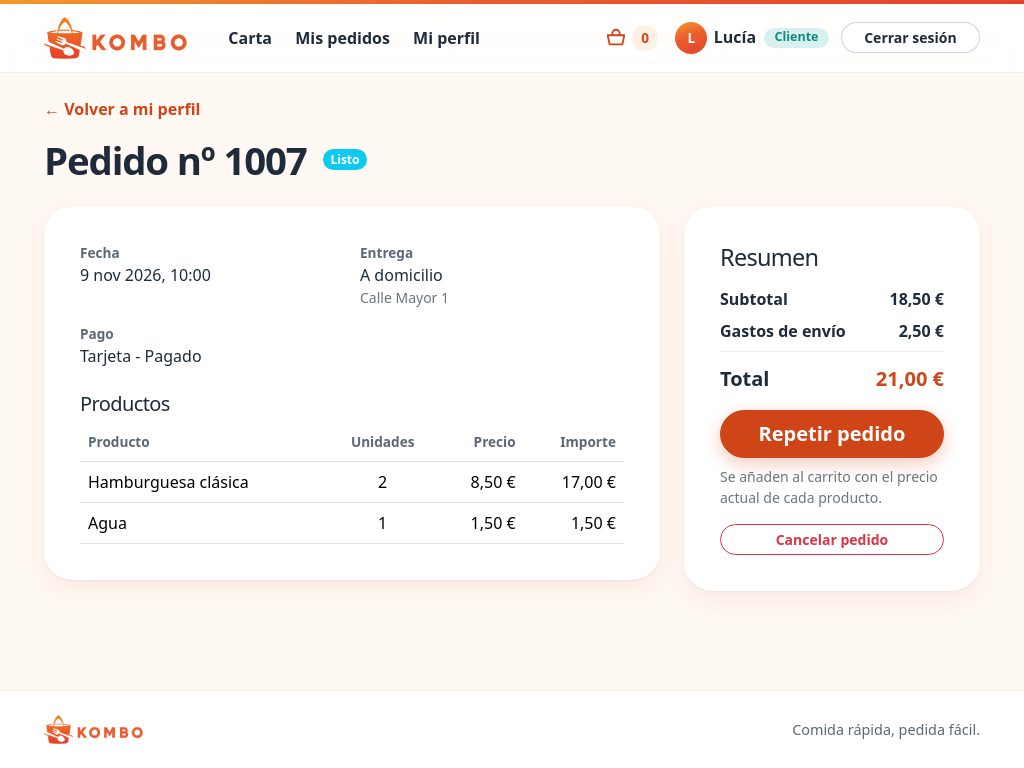
Test: OrderDetailPage › lets the customer cancel a ready order paying the fee of the settings
This screenshot has width=1024, height=768.
Click the button "Cancelar pedido": x=832, y=539 [720,524,944,555]
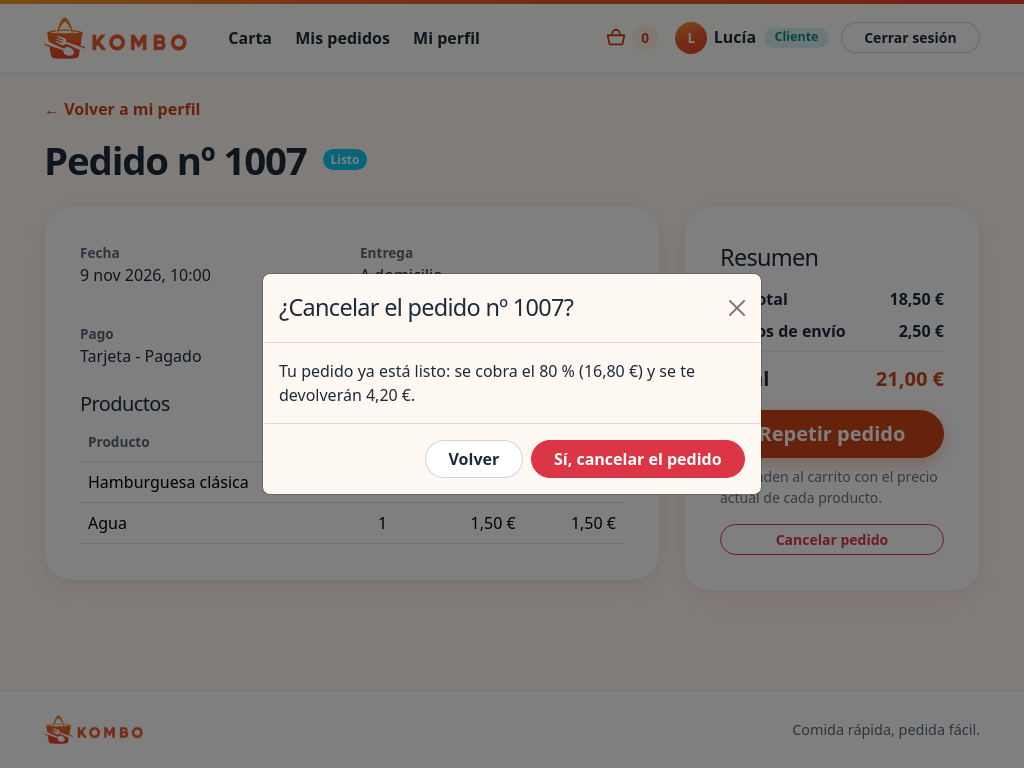
Check: the text "se cobra el 80 % (16,80.€) y se te devolverán 4,20.€" is shown, box [279,360,695,406]
Click the button "Sí, cancelar el pedido": x=638, y=459 [531,440,745,478]
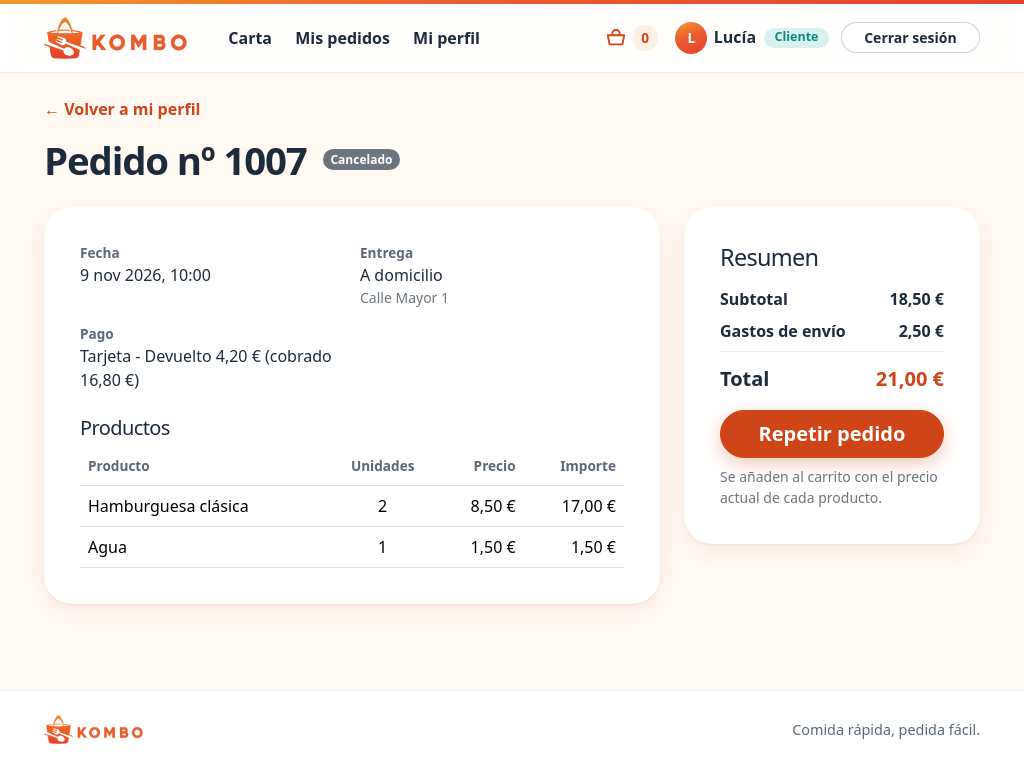
Check: the text "Cancelado" is shown, box [323,149,400,170]
Check: the text "Tarjeta - Devuelto 4,20 € (cobrado 16,80 €)" is shown, box [80,344,344,392]
Check: the button "Cancelar pedido" is gone
